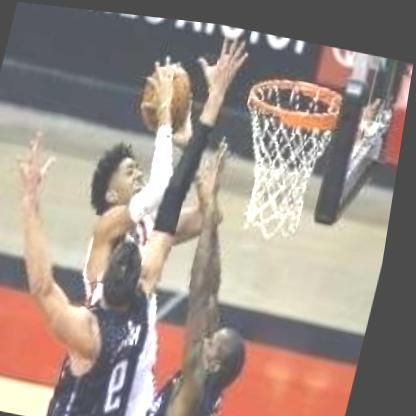basketball: (140, 57, 208, 132)
